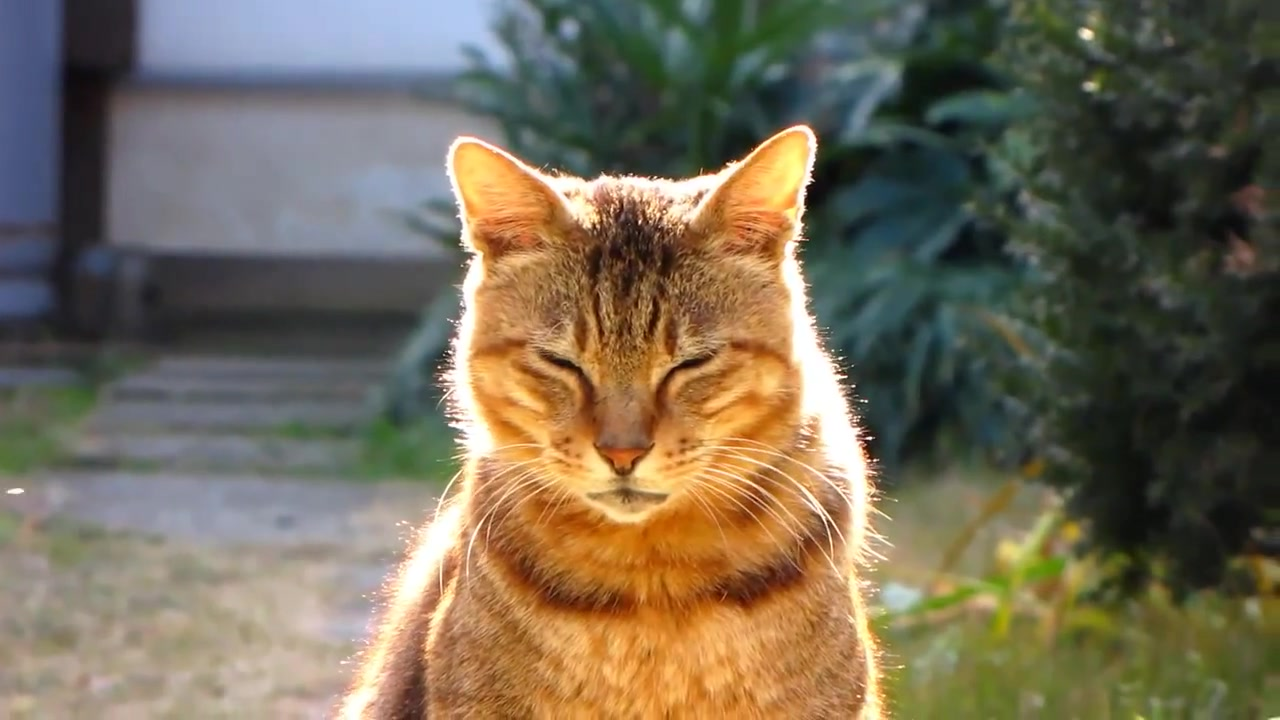cat: (336, 126, 893, 720)
